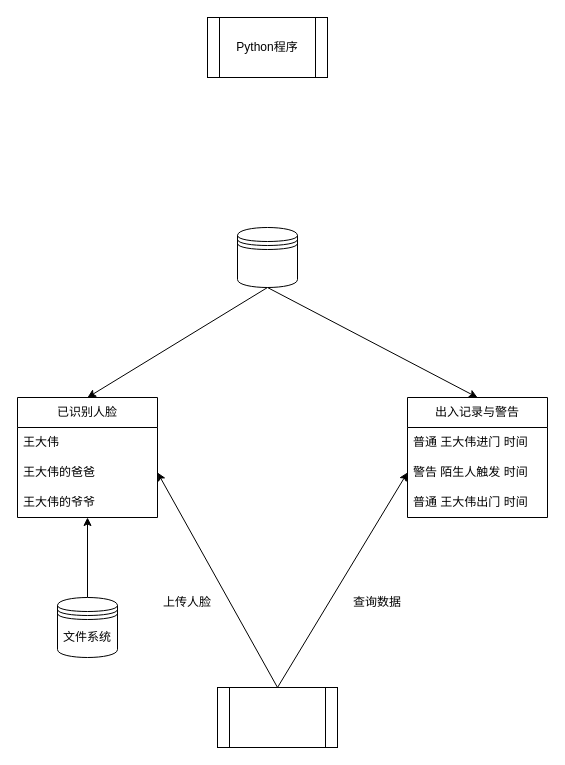
This 565x765 diagram has some shape labels left out. Here are the shapes that lost their labels. From the top down, the centre of each, then its label:
At pixel 267 257: "数据库".
At pixel 277 717: "Web服务器".
